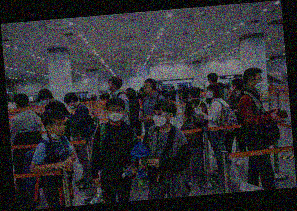mask_weared_incorrect: (51, 120, 65, 137)
with_mask: (152, 109, 167, 128), (107, 106, 123, 122), (253, 75, 263, 92), (65, 102, 75, 112), (205, 88, 213, 100), (39, 98, 50, 105), (105, 81, 112, 91), (229, 84, 235, 93)
without_mask: (143, 83, 152, 94)
